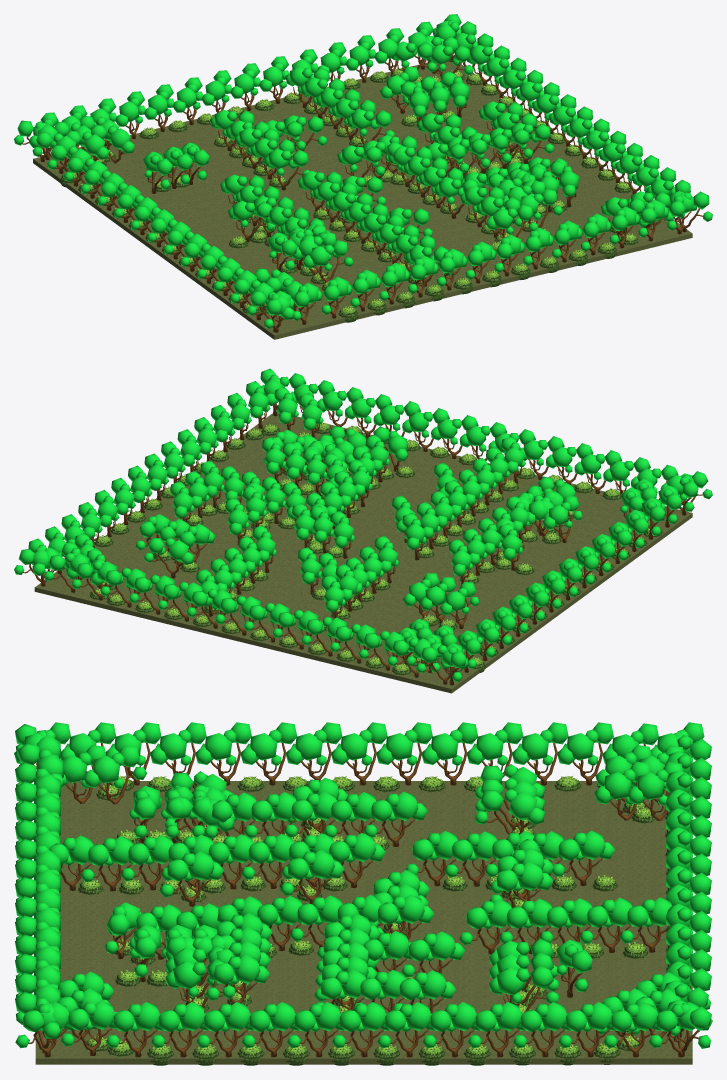
Rendered from Map.glb.
3 views of the same model, one above another, from view 1: azimuth 30°, elevation 25°; view 2: azimuth 150°, elevation 25°; view 3: azimuth 270°, elevation 25° (orthographic). The views are drawn at different scales.
Visible parts, largest first — view 1: Ground, Tree (1) (×10), Tree (2) (×8), Tree (3) (×7), Tree (6) (×5), Tree (9) (×5), Tree (11) (×5), Tree (7) (×5), Tree (10) (×5), Tree (4) (×5), Tree (×5), Tree (8) (×4) (+37 smaller); view 2: Ground, Tree (2) (×8), Tree (1) (×7), Tree (3) (×6), Tree (9) (×5), Tree (8) (×5), Tree (4) (×5), Tree (11) (×5), Tree (7) (×5), Tree (×6), Tree (12) (×4), Tree (10) (×4) (+34 smaller); view 3: Ground, Tree (1) (×11), Tree (3) (×9), Tree (2) (×10), Tree (×6), Tree (6) (×5), Tree (7) (×5), Tree (10) (×5), Tree (9) (×5), Tree (5) (×5), Tree (12) (×5), Tree (8) (×5) (+40 smaller).
Part boxes in pixels (box(x1,y1,x2,y2)): Ground: box(33, 61, 692, 339); Tree (1) (×10): box(32, 76, 690, 324); Tree (2) (×8): box(47, 28, 676, 318); Tree (3) (×7): box(64, 35, 660, 311); Tree (6) (×5): box(114, 56, 610, 290); Tree (9) (×5): box(163, 77, 560, 271); Tree (11) (×5): box(115, 57, 611, 295); Tree (7) (×5): box(130, 63, 593, 283); Tree (10) (×5): box(144, 69, 582, 283); Tree (4) (×5): box(80, 42, 643, 304); Tree (×5): box(14, 71, 712, 332); Tree (8) (×4): box(147, 70, 577, 276); Ground: box(34, 412, 692, 693); Tree (2) (×8): box(71, 393, 650, 661); Tree (1) (×7): box(44, 381, 678, 672); Tree (3) (×6): box(100, 405, 621, 648); Tree (9) (×5): box(111, 408, 615, 649); Tree (8) (×5): box(128, 415, 598, 642); Tree (4) (×5): box(129, 417, 593, 636); Tree (11) (×5): box(78, 394, 648, 663); Tree (7) (×5): box(144, 422, 582, 635); Tree (×6): box(14, 368, 712, 685); Tree (12) (×4): box(317, 387, 665, 670); Tree (10) (×4): box(94, 401, 631, 656); Ground: box(35, 781, 692, 1064); Tree (1) (×11): box(18, 723, 708, 1055); Tree (3) (×9): box(15, 722, 711, 1057); Tree (2) (×10): box(15, 722, 711, 1057); Tree (×6): box(15, 722, 711, 1057); Tree (6) (×5): box(15, 722, 711, 1057); Tree (7) (×5): box(15, 722, 711, 1057); Tree (10) (×5): box(15, 722, 711, 1057); Tree (9) (×5): box(15, 722, 711, 1057); Tree (5) (×5): box(15, 722, 711, 1057); Tree (12) (×5): box(15, 722, 711, 1057); Tree (8) (×5): box(15, 722, 711, 1057).
Bounding box in the file's own units: 107 × 10.18 × 106.
Materials: 3 (3 with a texture image).
